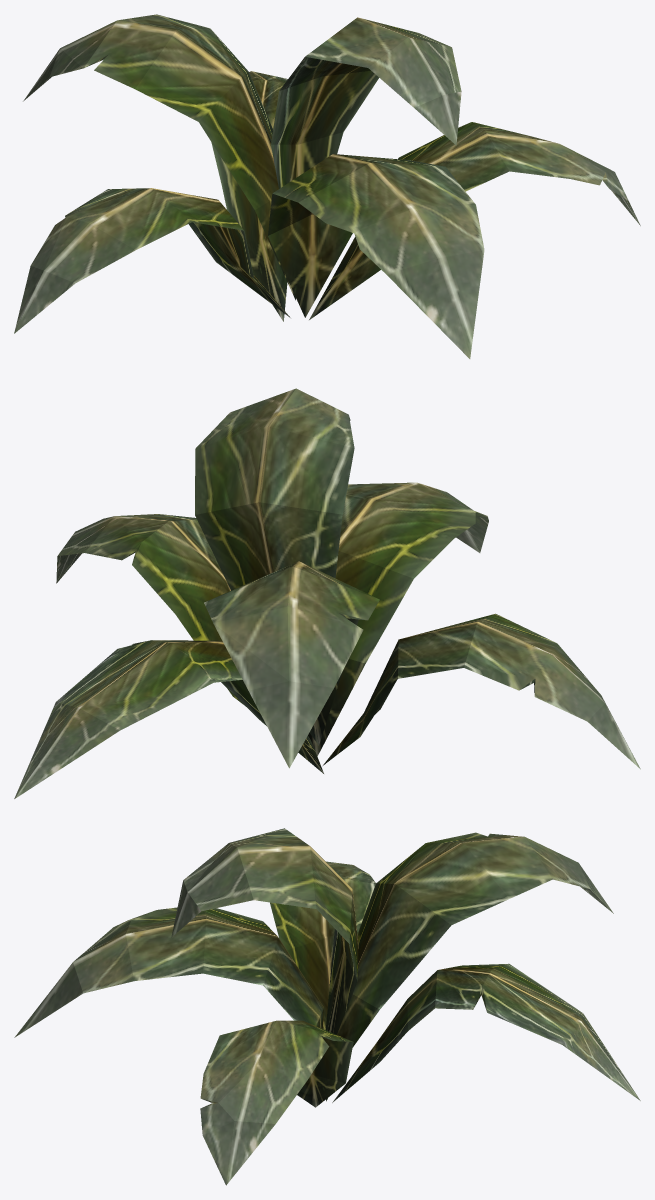
The model's file is SM_EN_2003_Fern01.FBX.
3 renders of one model, top to bottom at view 1: azimuth 30°, elevation 25°; view 2: azimuth 150°, elevation 25°; view 3: azimuth 270°, elevation 25°, orthographic. The views are drawn at different scales.
Parts seen in each view (by area): view 1: SM_EN_2003_Fern01; view 2: SM_EN_2003_Fern01; view 3: SM_EN_2003_Fern01.
Boxes of the visible parts, x1=… form: SM_EN_2003_Fern01: x1=14, y1=14, x2=640, y2=358; SM_EN_2003_Fern01: x1=14, y1=388, x2=640, y2=798; SM_EN_2003_Fern01: x1=14, y1=828, x2=640, y2=1185.
Bounding box in the file's own units: 108 × 53.57 × 105.
